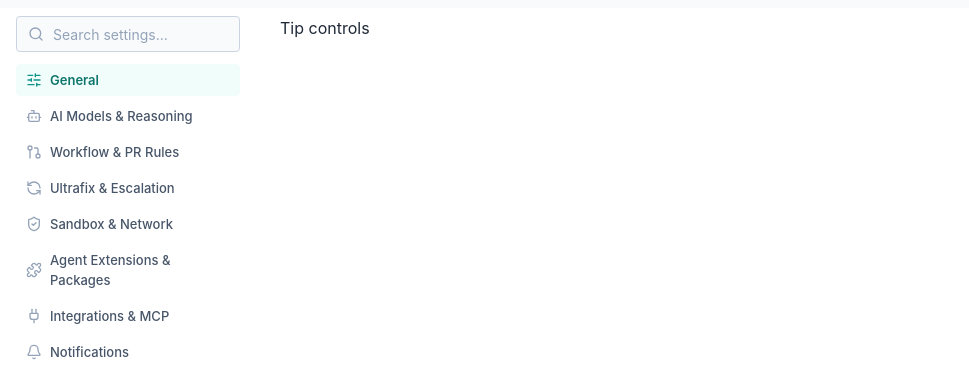
Test: SettingsNavigation › shows an actionable empty state for unmatched keywords
Type "does-not-exist" into the search field labelled "Search settings" at (128, 34), box [16, 16, 240, 52]
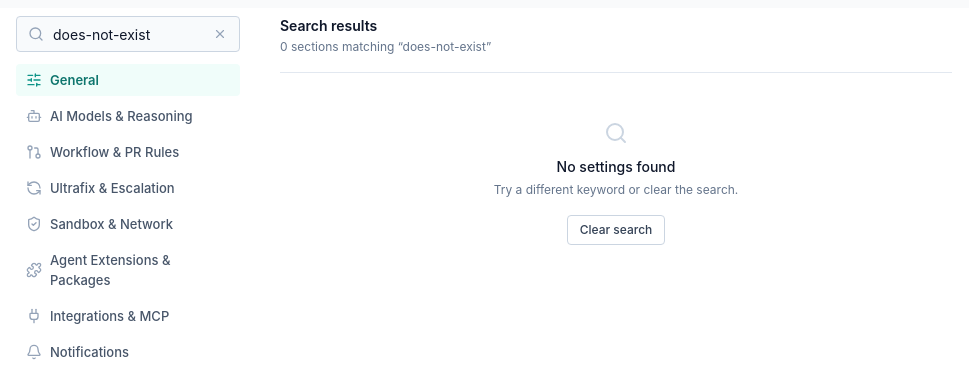
Now the heading "No settings found" is shown, box [557, 158, 675, 175]
Click the button "Clear search" at (616, 230), box [567, 215, 665, 245]
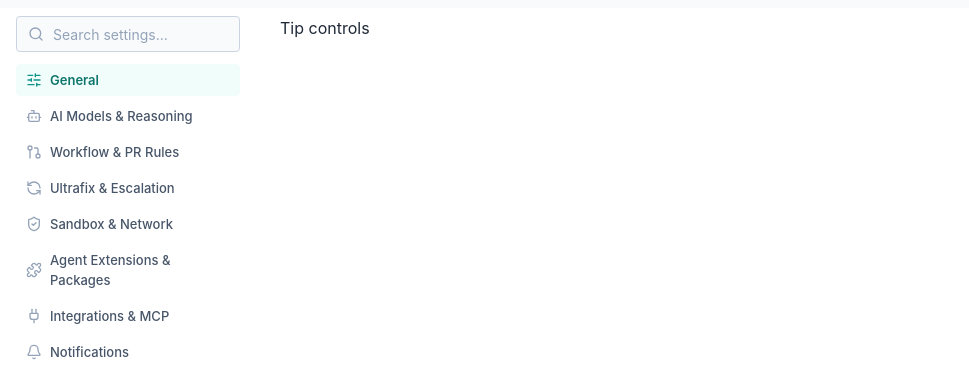
Now the text "Tip controls" is shown, box [280, 18, 370, 38]
